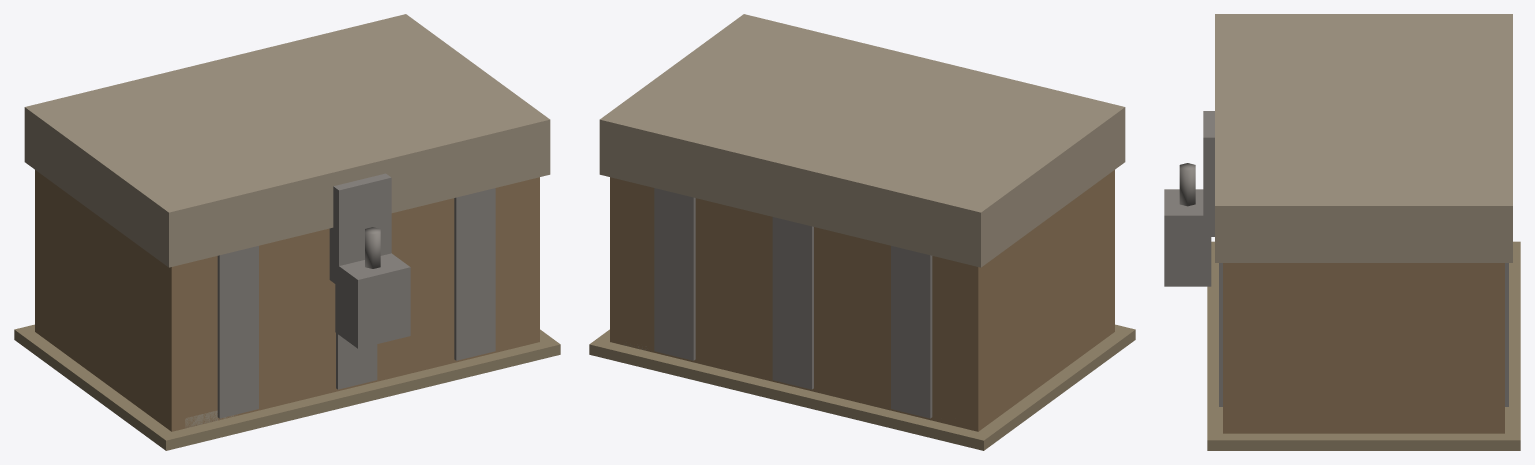
The model's file is loot_chest.glb.
3 renders of one model, left to right at view 1: azimuth 30°, elevation 25°; view 2: azimuth 150°, elevation 25°; view 3: azimuth 270°, elevation 25°, orthographic. The views are drawn at different scales.
Visible parts, largest first — view 1: Chest_Lid, Chest_Body, Chest_Mud, Chest_Band_2, Chest_Band_0, Chest_Padlock, Chest_Hasp, Chest_Band_1, Chest_LockShackle; view 2: Chest_Lid, Chest_Body, Chest_Mud, Chest_Band_2, Chest_Band_1, Chest_Band_0; view 3: Chest_Lid, Chest_Body, Chest_Mud, Chest_Padlock, Chest_Hasp, Chest_Band_2, Chest_LockShackle.
Boxes of the visible parts, bbox=[...] form: Chest_Lid: bbox=[24, 14, 550, 267]; Chest_Body: bbox=[35, 170, 539, 431]; Chest_Mud: bbox=[14, 324, 560, 450]; Chest_Band_2: bbox=[454, 188, 495, 360]; Chest_Band_0: bbox=[217, 246, 258, 418]; Chest_Padlock: bbox=[335, 253, 410, 348]; Chest_Hasp: bbox=[329, 173, 391, 286]; Chest_Band_1: bbox=[336, 333, 377, 389]; Chest_LockShackle: bbox=[365, 227, 380, 268]; Chest_Lid: bbox=[599, 14, 1125, 267]; Chest_Body: bbox=[610, 170, 1114, 431]; Chest_Mud: bbox=[589, 324, 1135, 450]; Chest_Band_2: bbox=[654, 188, 695, 360]; Chest_Band_1: bbox=[772, 217, 813, 389]; Chest_Band_0: bbox=[891, 246, 932, 418]; Chest_Lid: bbox=[1215, 14, 1512, 262]; Chest_Body: bbox=[1223, 263, 1504, 433]; Chest_Mud: bbox=[1207, 241, 1520, 450]; Chest_Padlock: bbox=[1164, 189, 1211, 286]; Chest_Hasp: bbox=[1203, 111, 1214, 236]; Chest_Band_2: bbox=[1219, 263, 1508, 406]; Chest_LockShackle: bbox=[1179, 163, 1195, 206].
Bounding box in the file's own units: 0.6 × 0.34 × 0.455.
